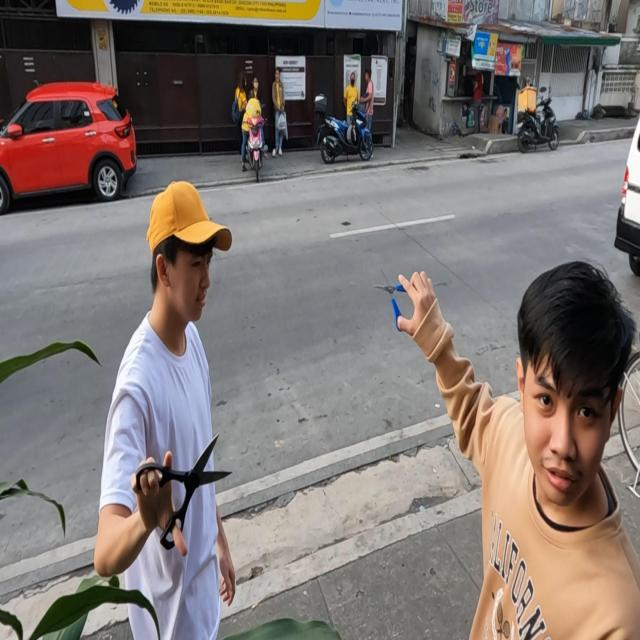scissor: (134, 435, 233, 552), (376, 266, 416, 334)
